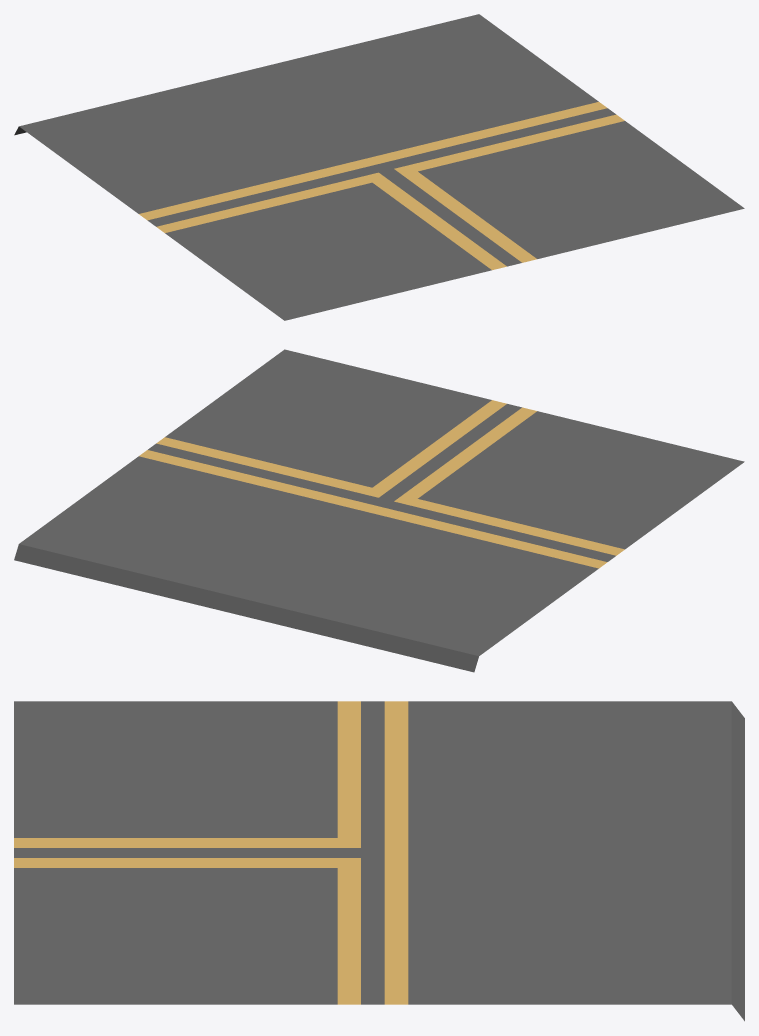
The model's file is Calle_T.fbx.
3 renders of one model, top to bottom at view 1: azimuth 30°, elevation 25°; view 2: azimuth 150°, elevation 25°; view 3: azimuth 270°, elevation 25°, orthographic. The views are drawn at different scales.
Visible parts, largest first — view 1: Calle_T; view 2: Calle_T; view 3: Calle_T.
Part boxes in pixels (x1,y1,x2,y2): Calle_T: (14, 14, 744, 320); Calle_T: (14, 349, 744, 672); Calle_T: (14, 701, 744, 1021).
Size of the model in its own units: 300 by 7.9 by 306.
